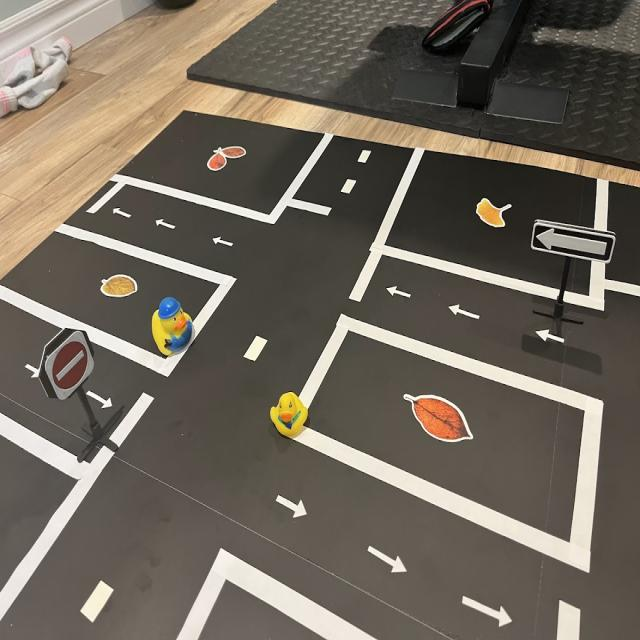duck_regular: (271, 389, 310, 444)
duck_specialty: (153, 295, 199, 361)
road_oneway: (460, 593, 517, 631), (367, 545, 411, 580), (274, 494, 311, 523), (445, 299, 485, 324), (87, 388, 117, 416), (384, 282, 415, 303), (23, 359, 46, 383), (155, 216, 180, 235), (212, 235, 238, 252), (110, 204, 134, 222)
sign_noentry: (44, 327, 100, 406)
sign_oneway_left: (532, 220, 616, 265)
